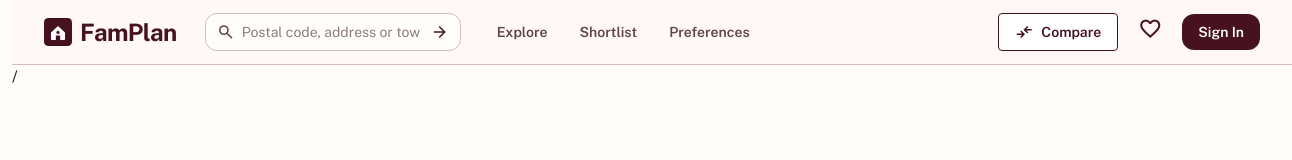
it: reference dialog-map navigation › sends the header postal search to Explore without losing a leading zero
This screenshot has width=1292, height=160.
Type "018961" into the field named "Search locations or postal codes". click: (333, 32)
box: [205, 13, 461, 51]
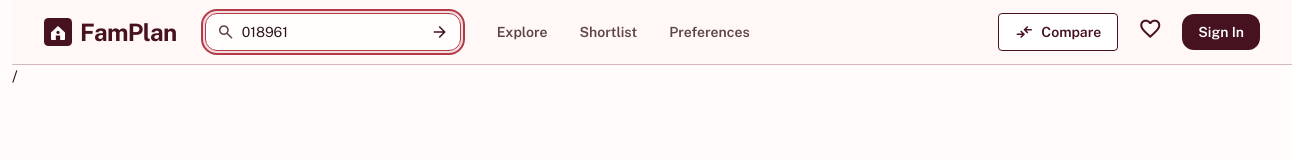
Click the button named "Search this location". click: (440, 36)
box: [427, 19, 453, 52]
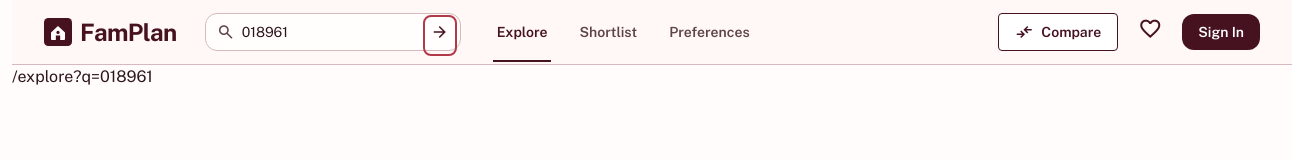
expect the text with test id "location" reads "/explore?q=018961": met, box [12, 67, 153, 86]
